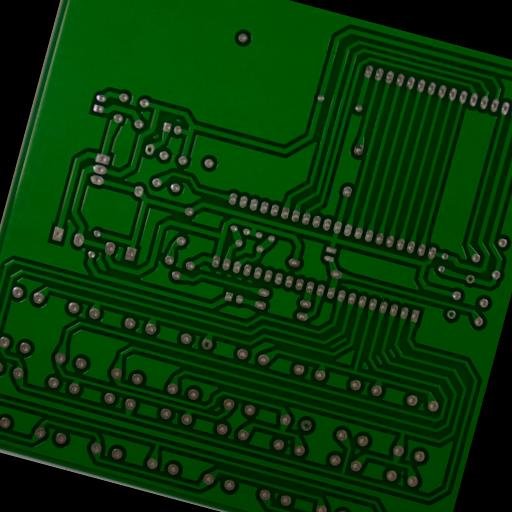missing_hole: (203, 340, 210, 348), (466, 275, 473, 282), (447, 311, 454, 318), (302, 422, 309, 428), (146, 146, 152, 152)
